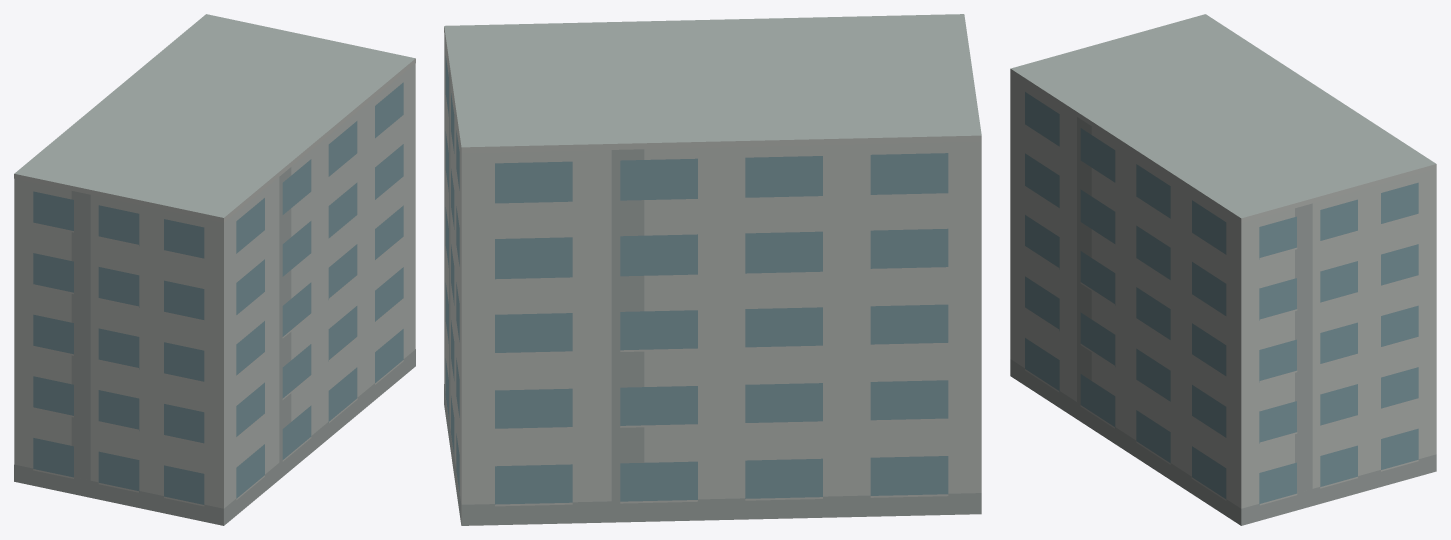
The model's file is survey-upis-33018816.glb.
3 renders of one model, left to right at view 1: azimuth 30°, elevation 25°; view 2: azimuth 150°, elevation 25°; view 3: azimuth 270°, elevation 25°, orthographic. The views are drawn at different scales.
Visible parts, largest first — view 1: survey-upis-33018816.tmp; view 2: survey-upis-33018816.tmp; view 3: survey-upis-33018816.tmp.
Boxes of the visible parts, <box> form: survey-upis-33018816.tmp: <box>14,14,415,525</box>; survey-upis-33018816.tmp: <box>444,14,981,525</box>; survey-upis-33018816.tmp: <box>1010,14,1436,525</box>.
Bounding box in the file's own units: 21.75 × 15.25 × 19.16.
